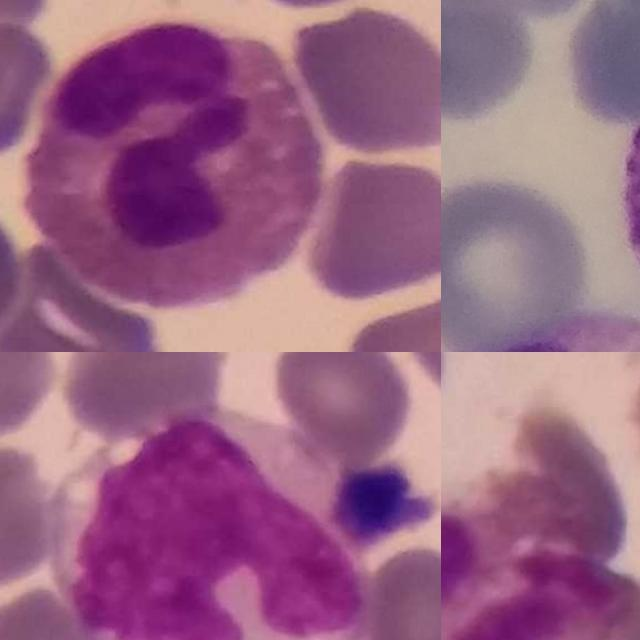Eosinophil: (17, 21, 325, 311), (441, 485, 636, 640)
Monocyte: (49, 410, 369, 640)
